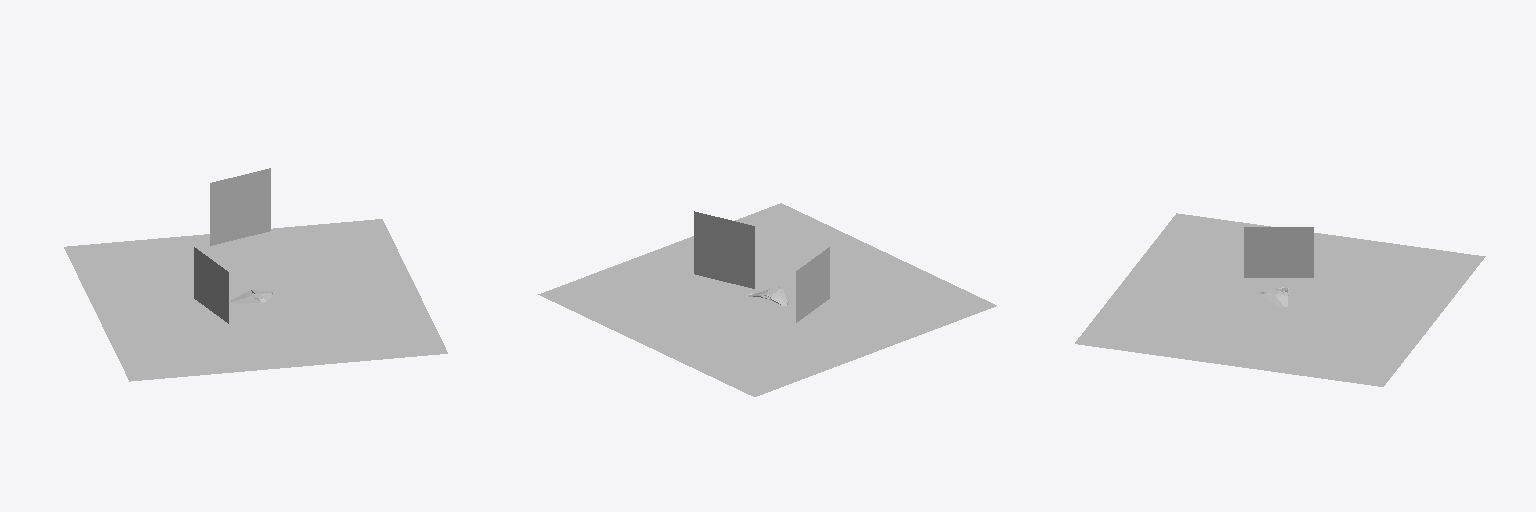
File: spaceship.obj
The picture shows the model from 3 angles: view 1: azimuth 30°, elevation 25°; view 2: azimuth 150°, elevation 25°; view 3: azimuth 270°, elevation 25°; orthographic projection.
Parts seen in each view (by area): view 1: Plane.001, Plane.003, Plane.002; view 2: Plane.001, Plane.003, Plane.002; view 3: Plane.001, Plane.002.
Part boxes in pixels (x1,y1,x2,y2): Plane.001: (64, 219, 447, 381); Plane.003: (210, 168, 270, 245); Plane.002: (194, 247, 228, 323); Plane.001: (538, 203, 996, 396); Plane.003: (694, 211, 754, 288); Plane.002: (796, 247, 829, 322); Plane.001: (1075, 213, 1485, 386); Plane.002: (1244, 227, 1313, 277).
Size of the model in its own units: 65.01 by 19.32 by 65.01.